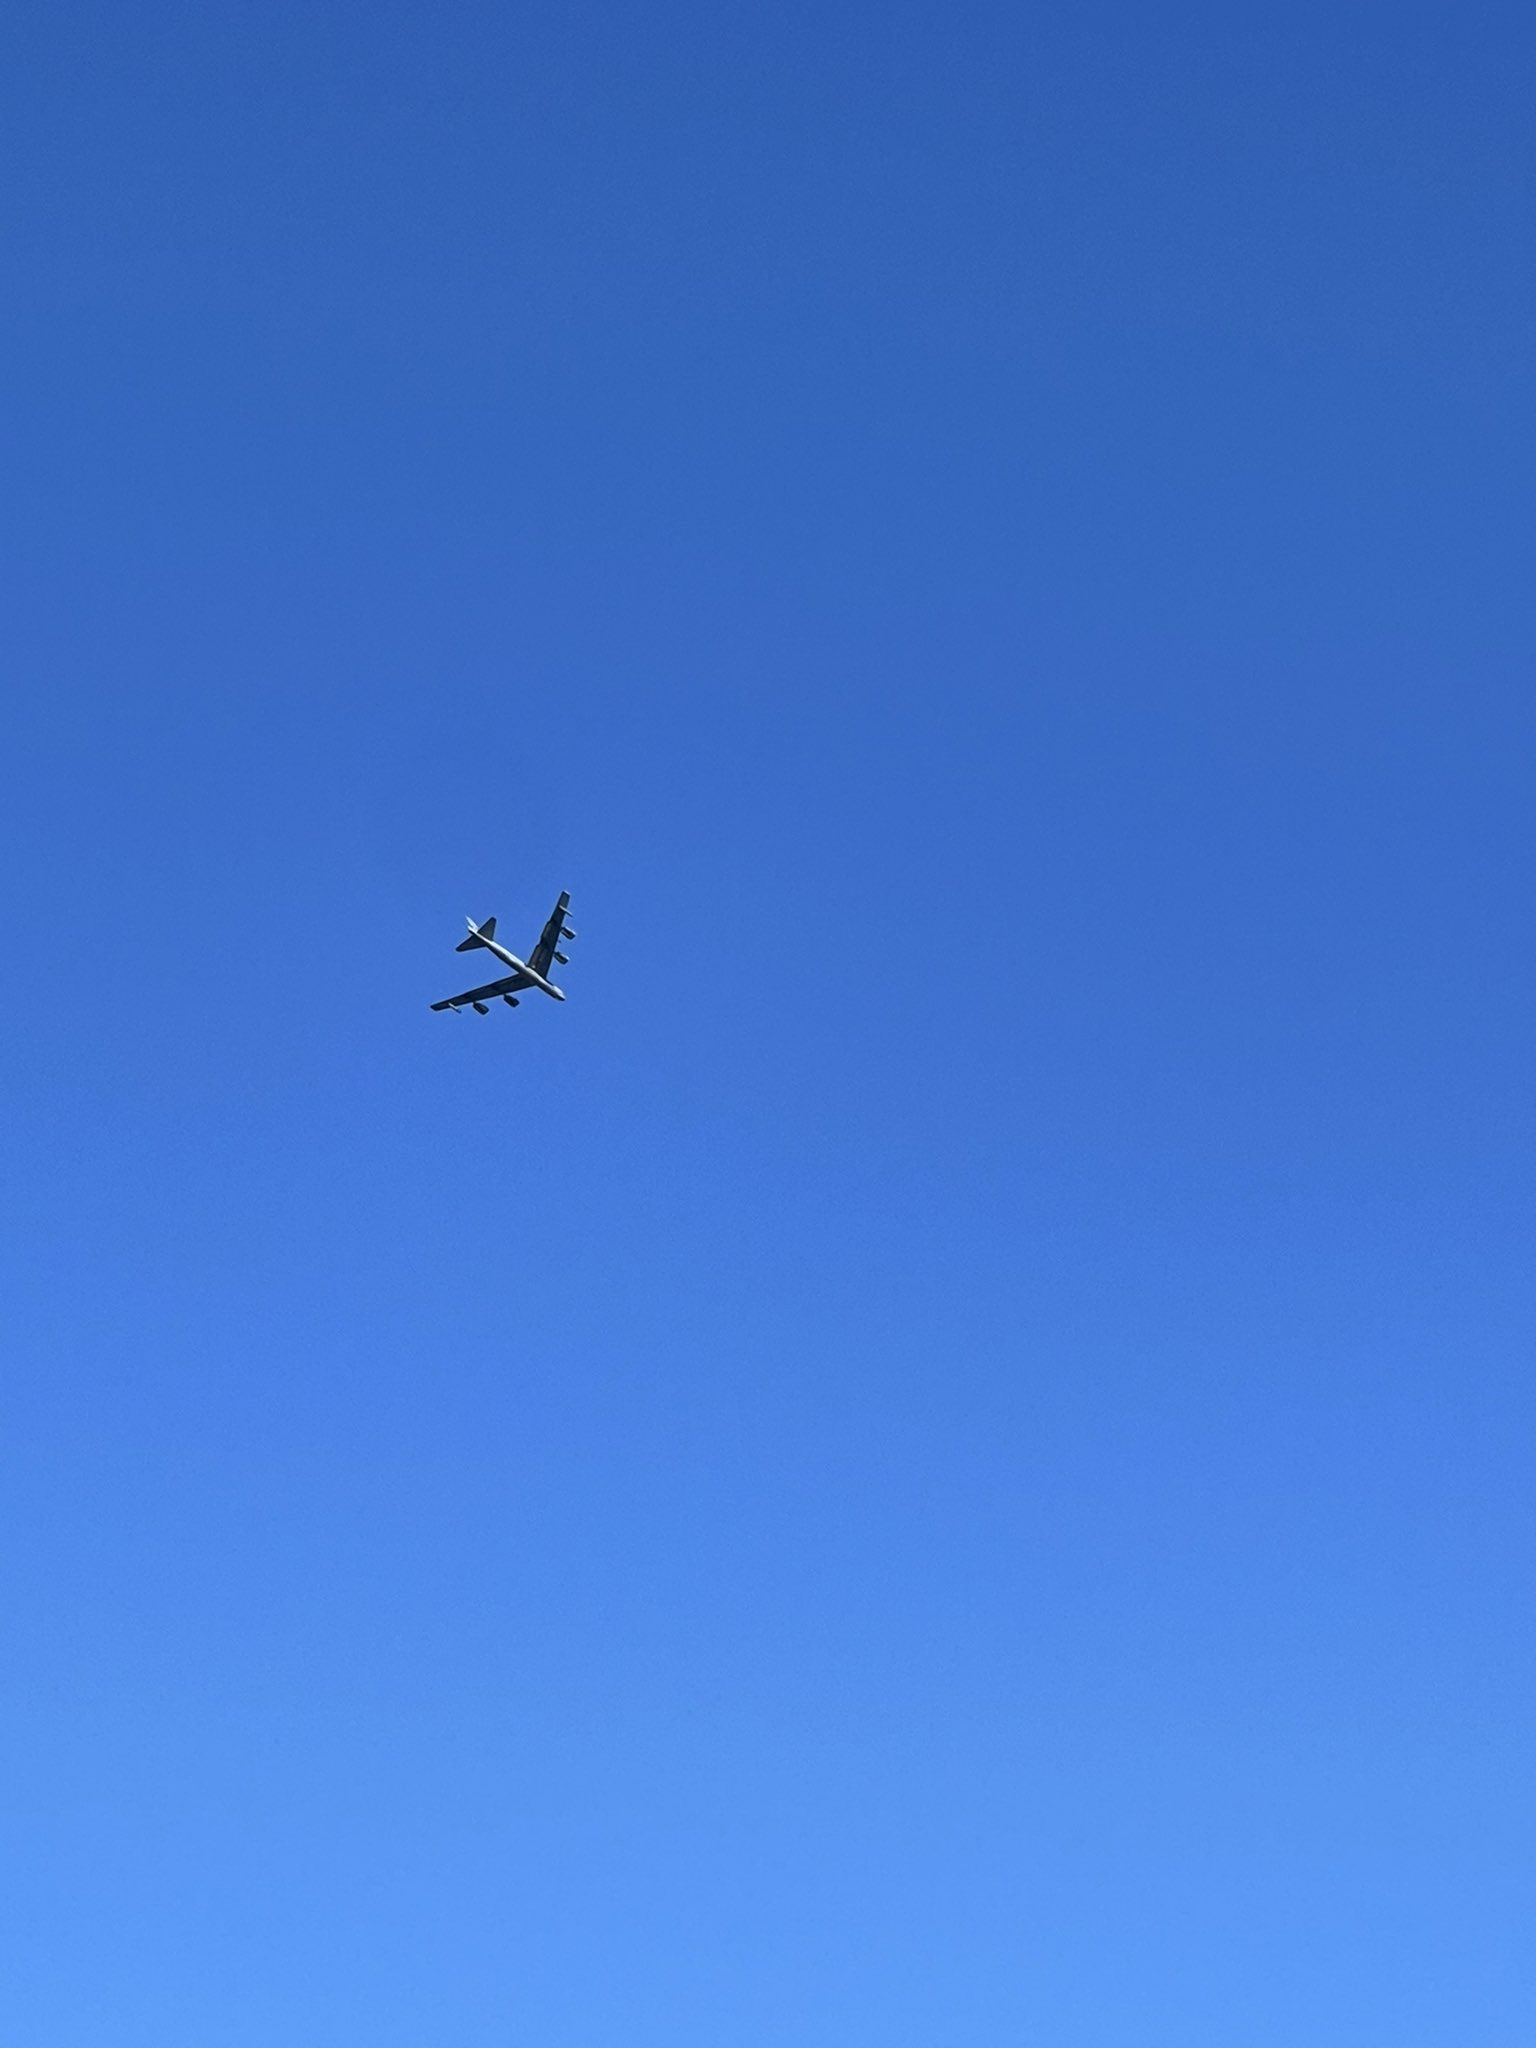B52: (429, 889, 576, 1016)
